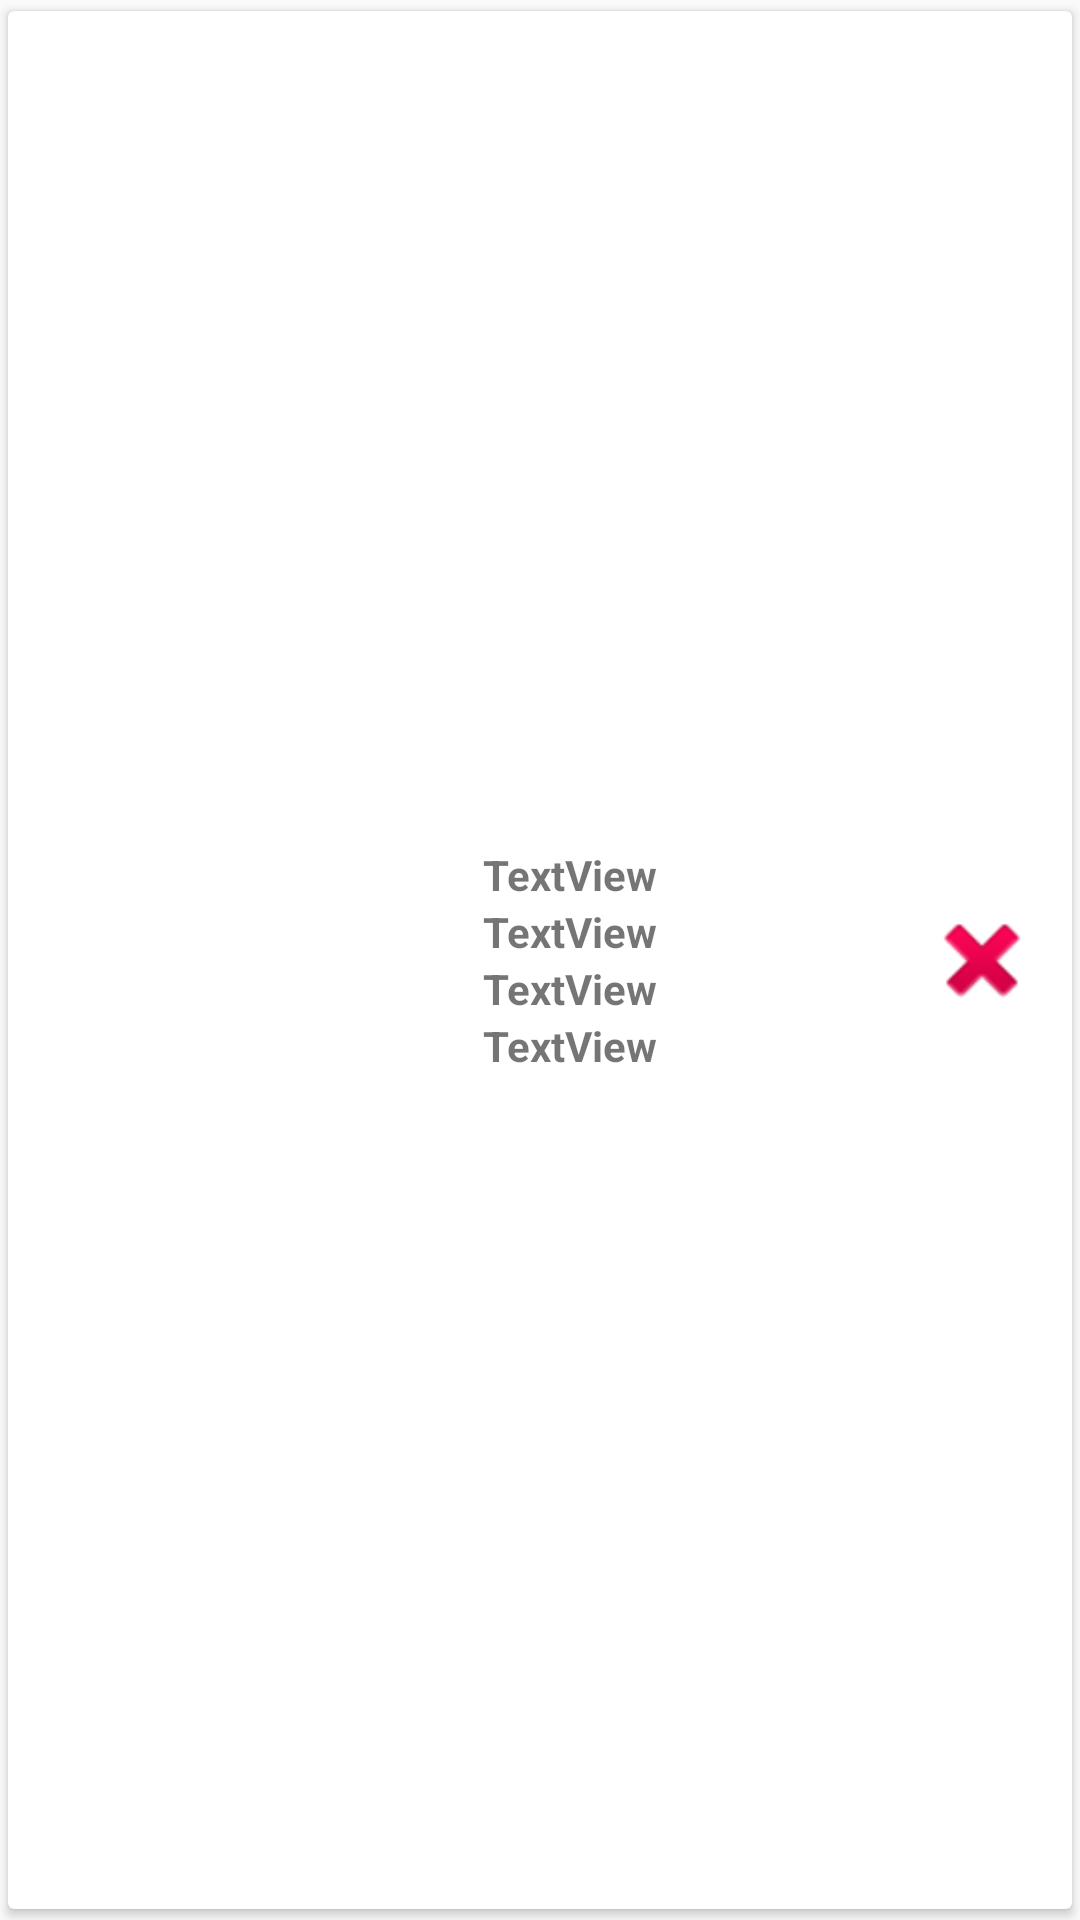

Where icons sit on this 1080 x 1920 app screen, as [x1=x1, y1=y1, x2=x2, y2=y2]:
delete: [x1=944, y1=924, x2=1020, y2=998]
